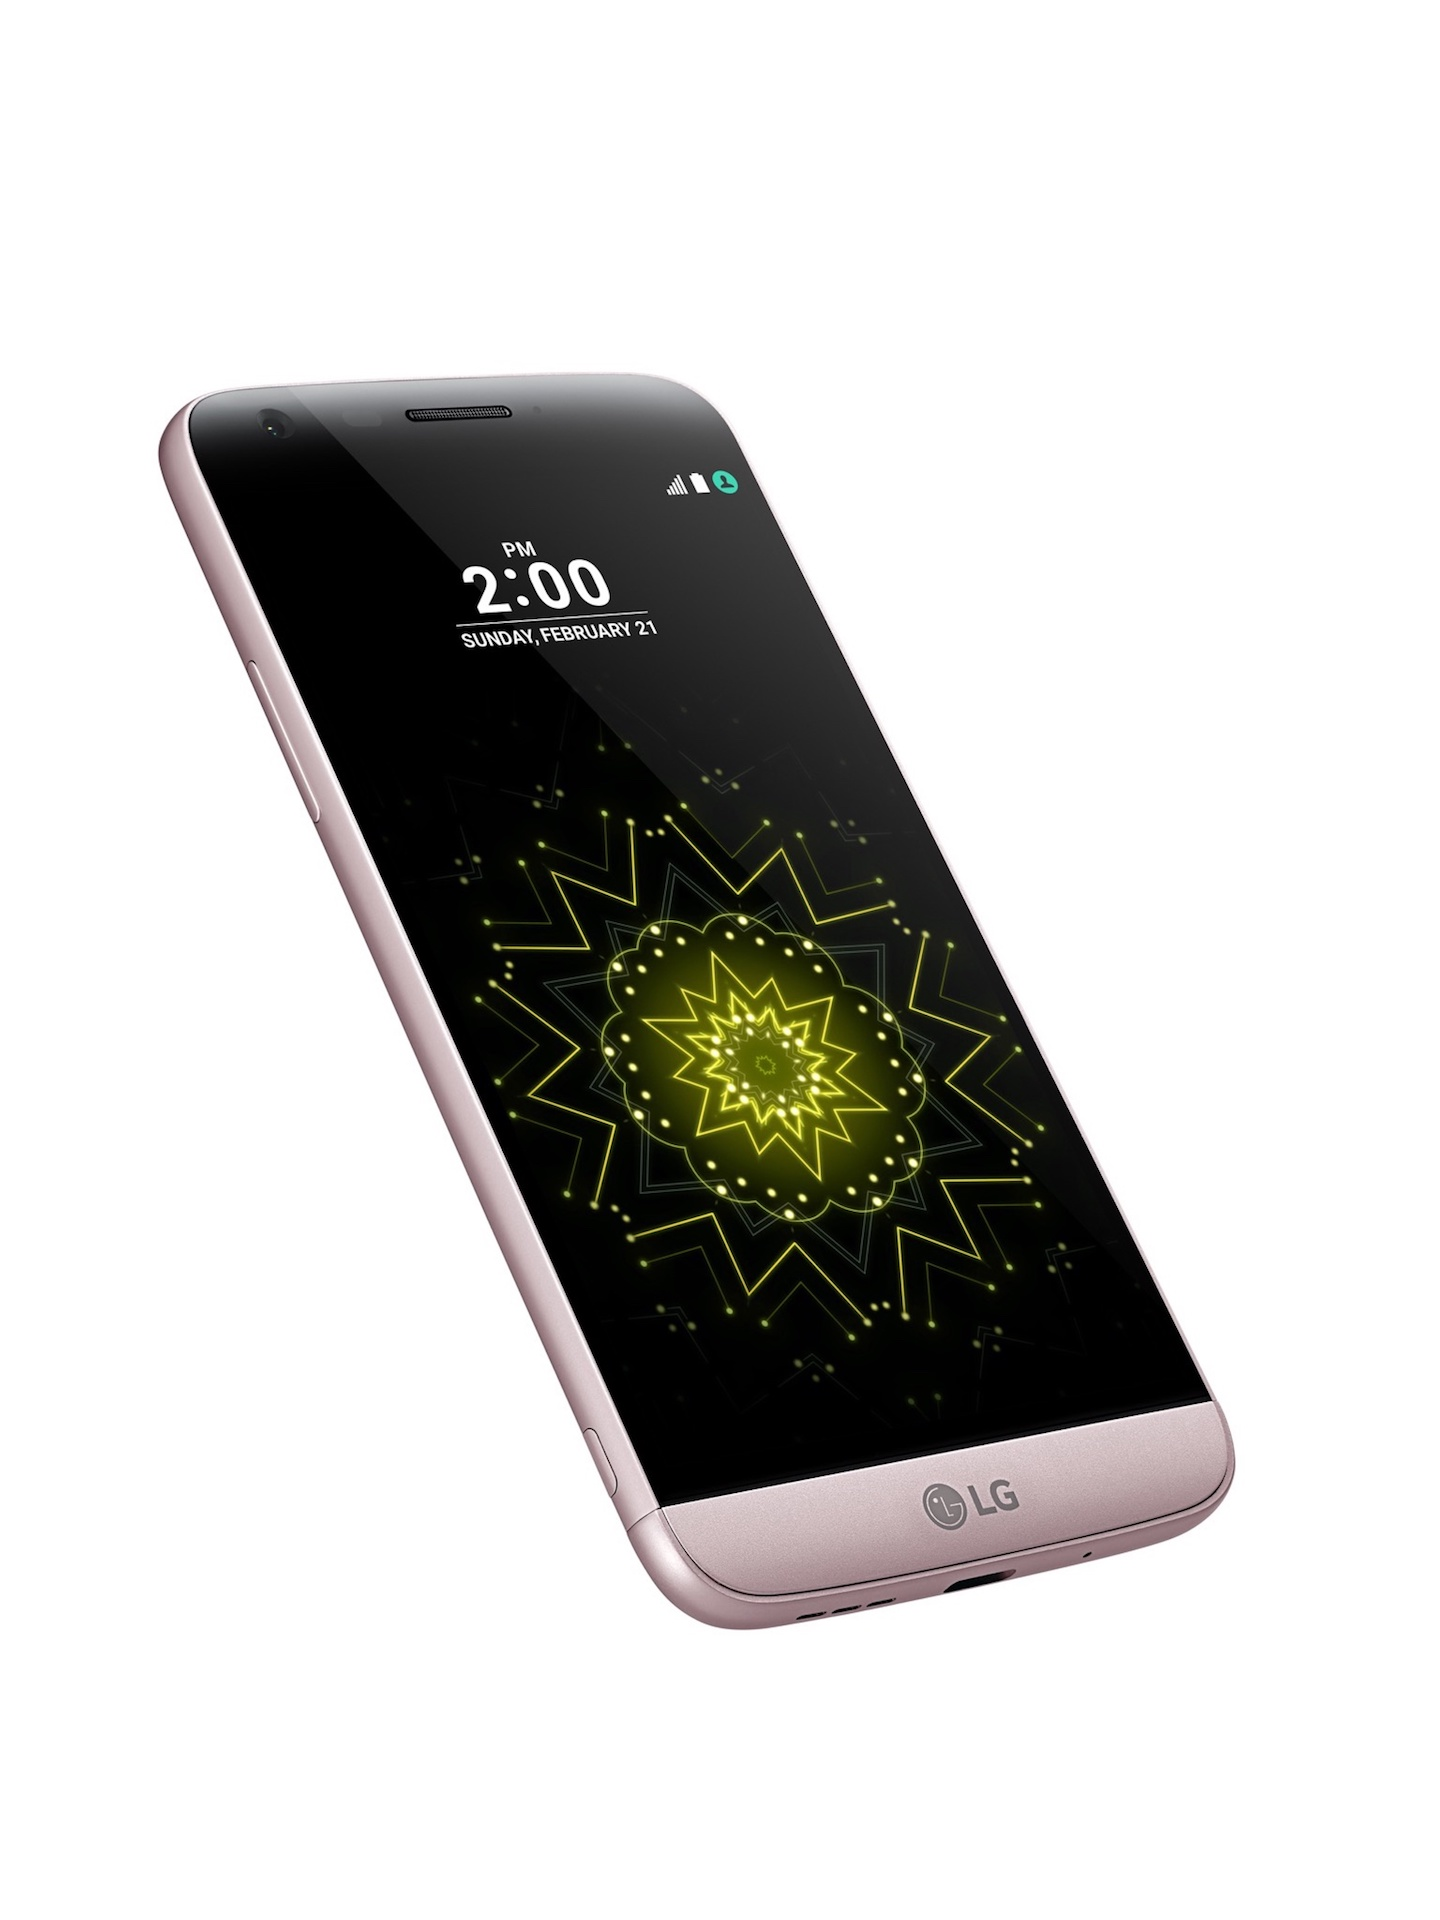smartphone: (156, 369, 1237, 1631)
